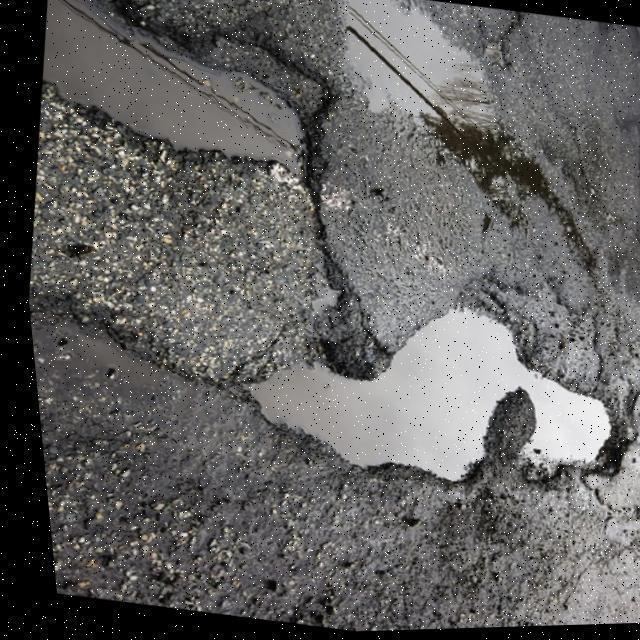Pothole: (223, 280, 629, 497), (43, 0, 349, 195)
